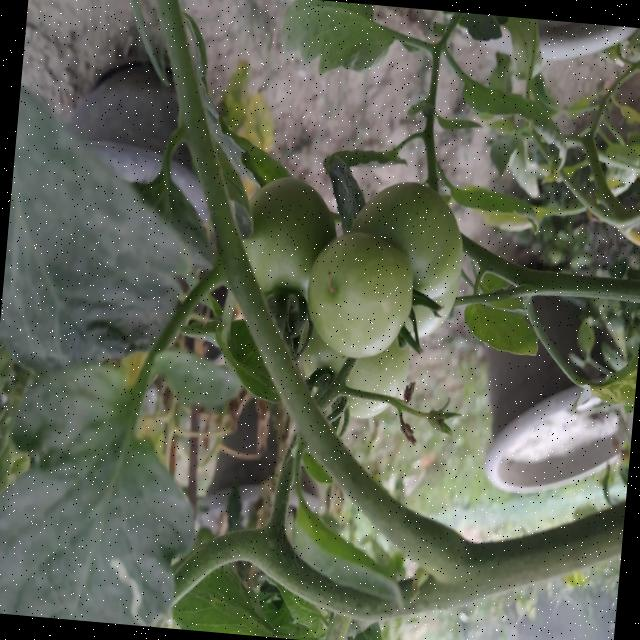Unripe: (297, 224, 416, 366)
